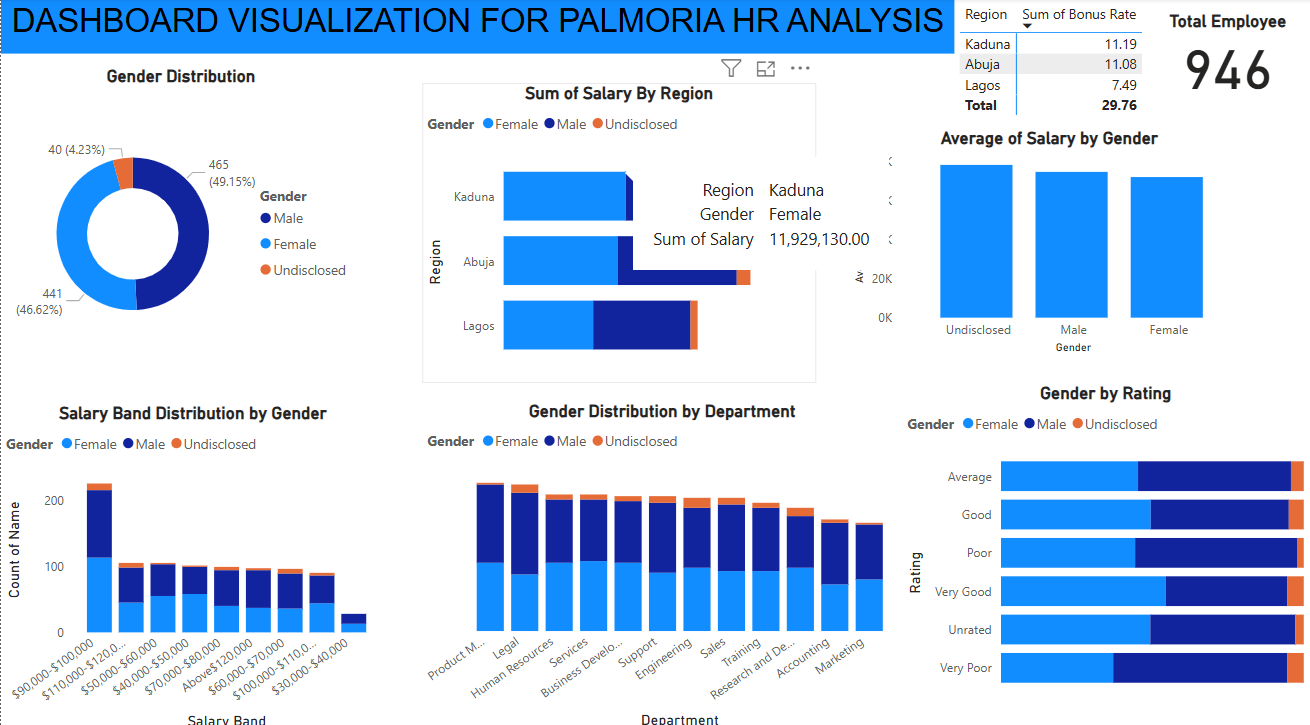

The page's visual inventory and layout, read from the dashboard file:
{"tool":"powerbi","page":{"name":"Page 1","canvas":[1280,720],"ordinal":0},"visuals":[{"type":"donutChart","title":"Gender Distribution","fields":{"Y":["Palmoria Emp Data.Name"],"Category":["Palmoria Emp Data.Gender"]},"box":[0,66,352.2,310.6],"z":0},{"type":"barChart","title":"Sum of Salary By Region","fields":{"Series":["Palmoria Emp Data.Gender"],"Category":["Palmoria Emp Data.Region"],"Y":["Palmoria Emp Data.Salary"]},"box":[412.1,83.2,385.2,293.5],"z":1000},{"type":"columnChart","title":"Gender Distribution by Department","fields":{"Series":["Palmoria Emp Data.Gender"],"Category":["Palmoria Emp Data.Department"],"Y":["Palmoria Emp Data.Name"]},"box":[412.2,394,469.7,325.3],"z":2000},{"type":"hundredPercentStackedBarChart","title":"Gender by Rating","fields":{"Category":["Palmoria Emp Data.Rating"],"Series":["Palmoria Emp Data.Gender"],"Y":["Palmoria Emp Data.Name"]},"box":[881.8,377.1,398.2,314],"z":3000},{"type":"clusteredColumnChart","fields":{"Y":["Palmoria Emp Data.Salary"],"Category":["Palmoria Emp Data.Gender"]},"box":[829.2,126.9,393,225.5],"z":4000},{"type":"columnChart","title":"Salary Band Distribution by Gender","fields":{"Category":["Palmoria Emp Data.Salary Band"],"Y":["Palmoria Emp Data.Name"],"Series":["Palmoria Emp Data.Gender"]},"box":[0,395.7,375.4,324.1],"z":5000},{"type":"textbox","box":[0,0,933.2,54],"z":6000},{"type":"pivotTable","fields":{"Rows":["Palmoria Emp Data.Region"],"Values":["Palmoria Emp Data.Bonus Rate"]},"box":[933.2,0,195.8,126.9],"z":7000},{"type":"card","title":"Total Employee","fields":{"Values":["Palmoria Emp Data.Name"]},"box":[1129,12.2,143.2,83.7],"z":7001}]}

Visuals, with their boxes in screenshot pixels (x1, y1, x2, y2), scaled from the page's 1280x720 canvas onto the 1310x725 screenshot:
"Gender Distribution" donutChart: 0/66/360/379
"Sum of Salary By Region" barChart: 422/84/816/379
"Gender Distribution by Department" columnChart: 422/397/903/724
"Gender by Rating" hundredPercentStackedBarChart: 902/380/1309/696
clusteredColumnChart - Palmoria Emp Data.Salary x Palmoria Emp Data.Gender: 849/128/1251/355
"Salary Band Distribution by Gender" columnChart: 0/398/384/724
textbox: 0/0/955/54
pivotTable - Palmoria Emp Data.Region x Palmoria Emp Data.Bonus Rate: 955/0/1155/128
"Total Employee" card: 1155/12/1302/97
